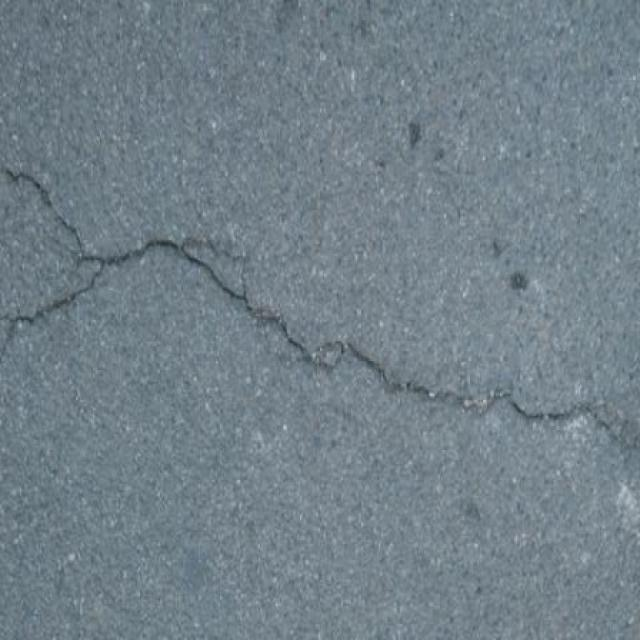Diagonal Crack: (0, 146, 640, 475)
